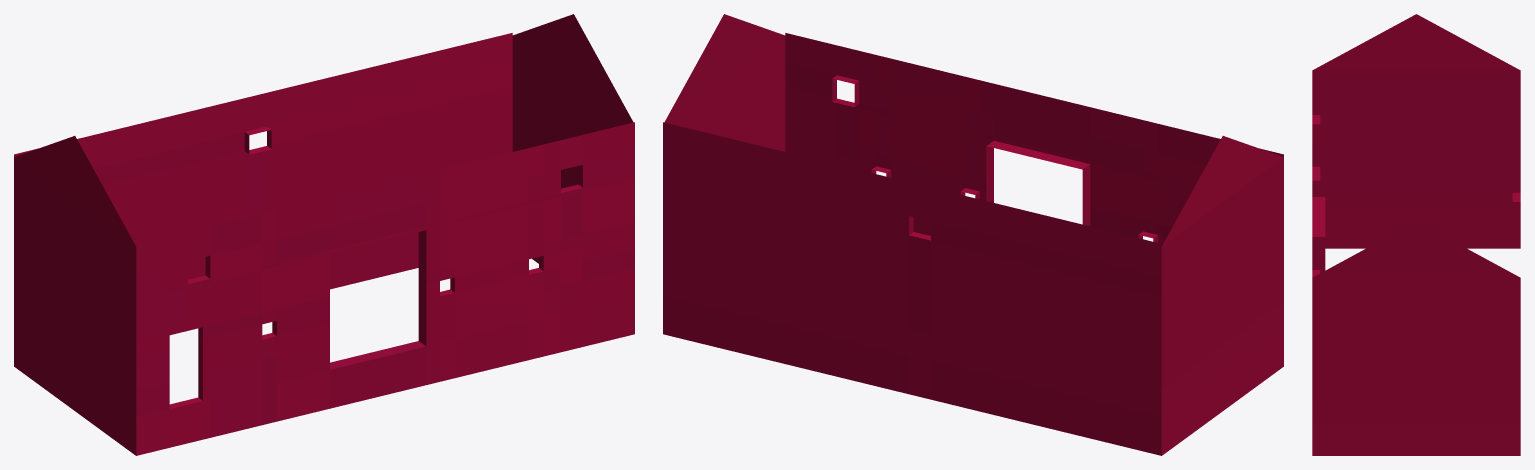
The model's file is SM_Bld_213_Masonry.glb.
3 renders of one model, left to right at view 1: azimuth 30°, elevation 25°; view 2: azimuth 150°, elevation 25°; view 3: azimuth 270°, elevation 25°, orthographic. The views are drawn at different scales.
Parts seen in each view (by area): view 1: SM_Bld_213_Masonry; view 2: SM_Bld_213_Masonry; view 3: SM_Bld_213_Masonry.
Boxes of the visible parts, x1,y1,x2,y2 form: SM_Bld_213_Masonry: [14, 14, 634, 455]; SM_Bld_213_Masonry: [663, 14, 1283, 455]; SM_Bld_213_Masonry: [1312, 14, 1520, 455].
Bounding box in the file's own units: 13.46 × 7.11 × 5.71.
